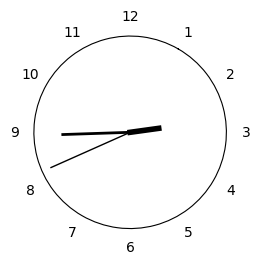12: (122, 10, 138, 23)
circle: (34, 36, 227, 228)
hours: (127, 125, 163, 134)
minutes: (60, 131, 127, 135)
seconds: (49, 135, 123, 168)
